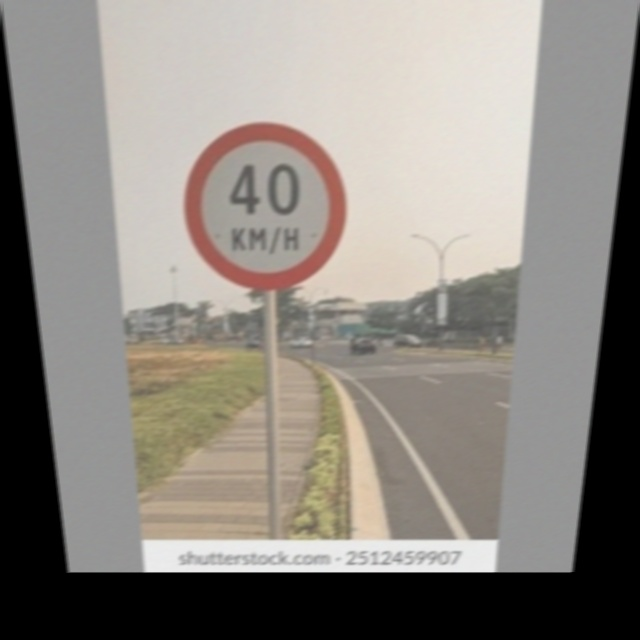Speed_Limit_40: (184, 120, 348, 288)
